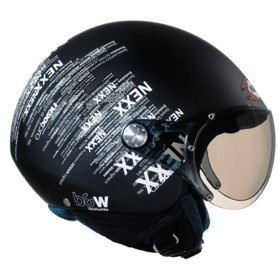helmet: (18, 32, 264, 232)
